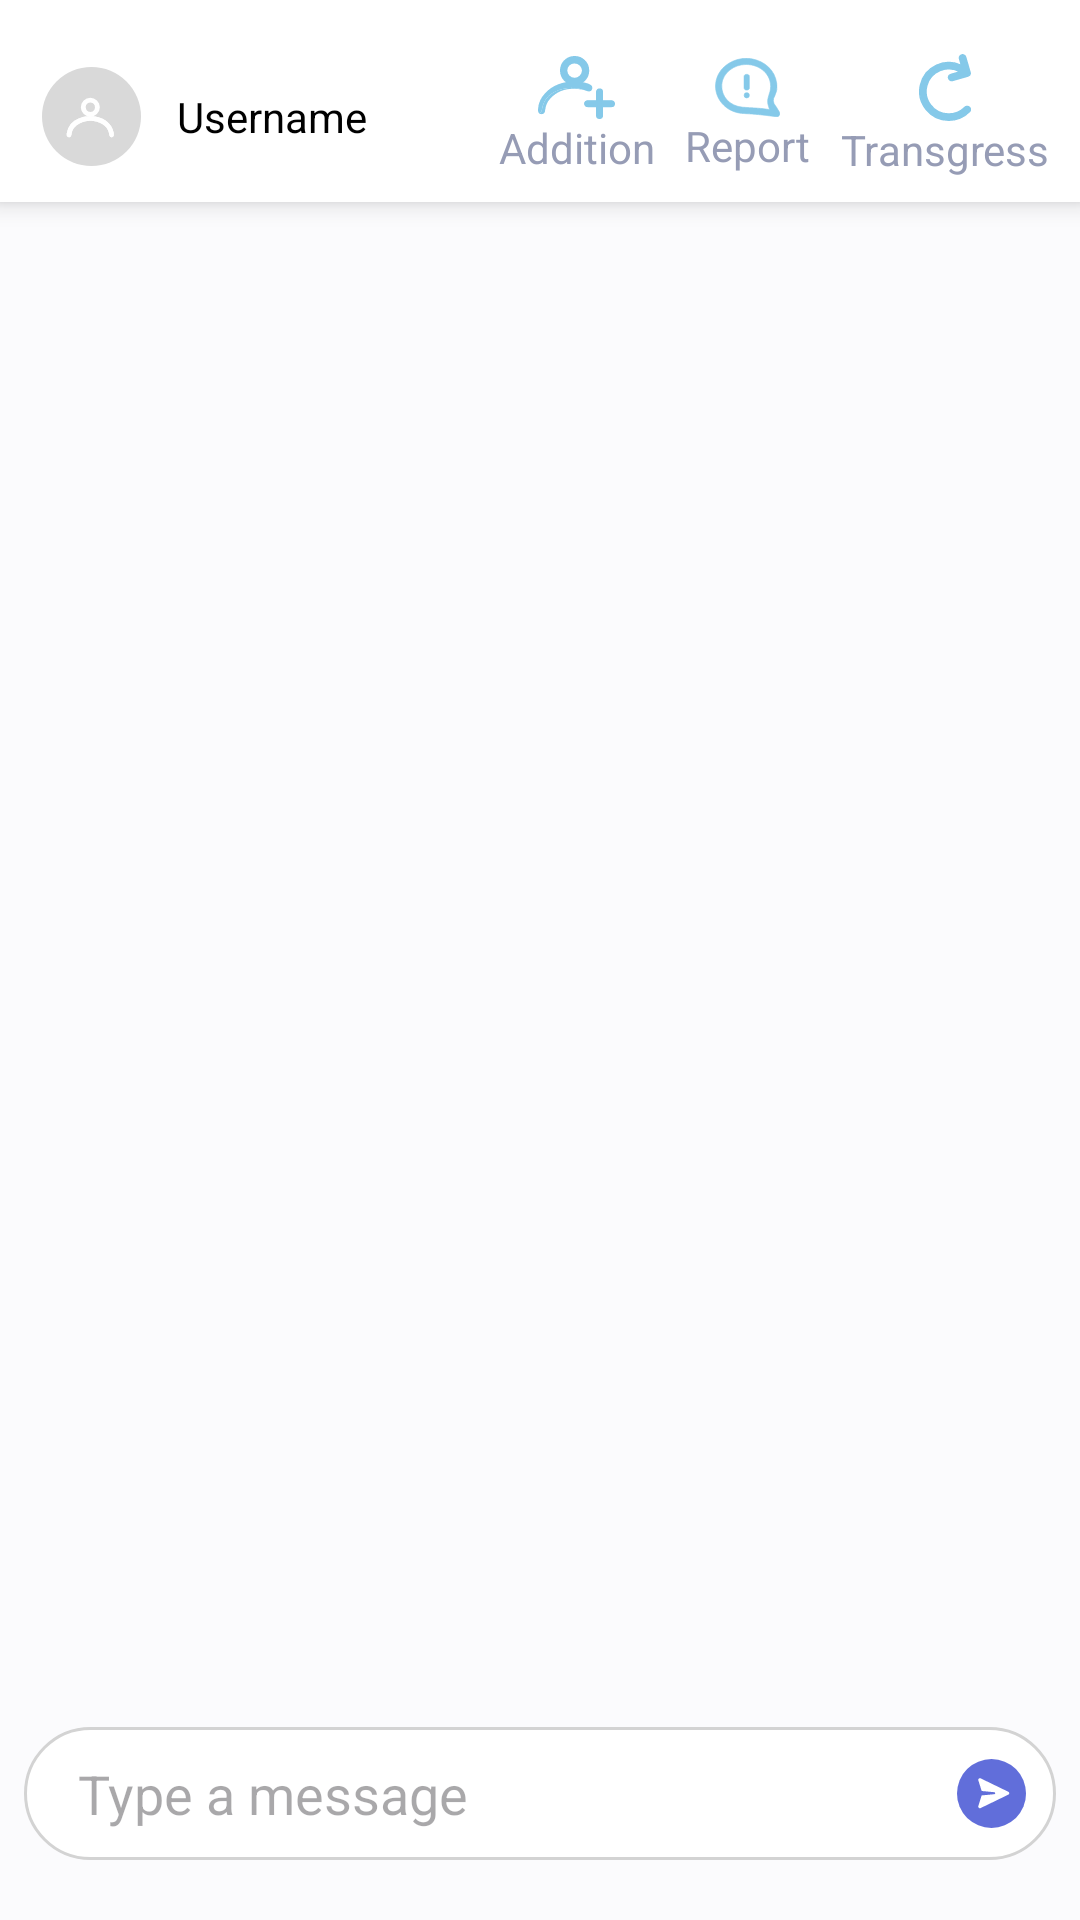

Icon click points for this 1080x1920 phone screenshot, format (x=x, y=y):
user profile: (x=91, y=116)
